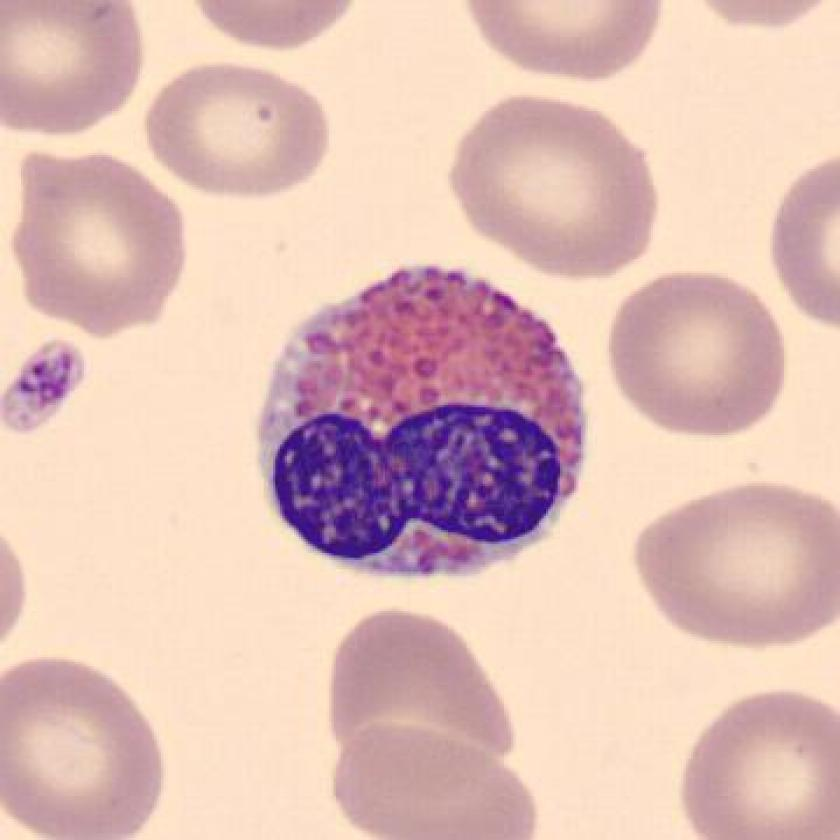eosinophil: (244, 253, 608, 596)
